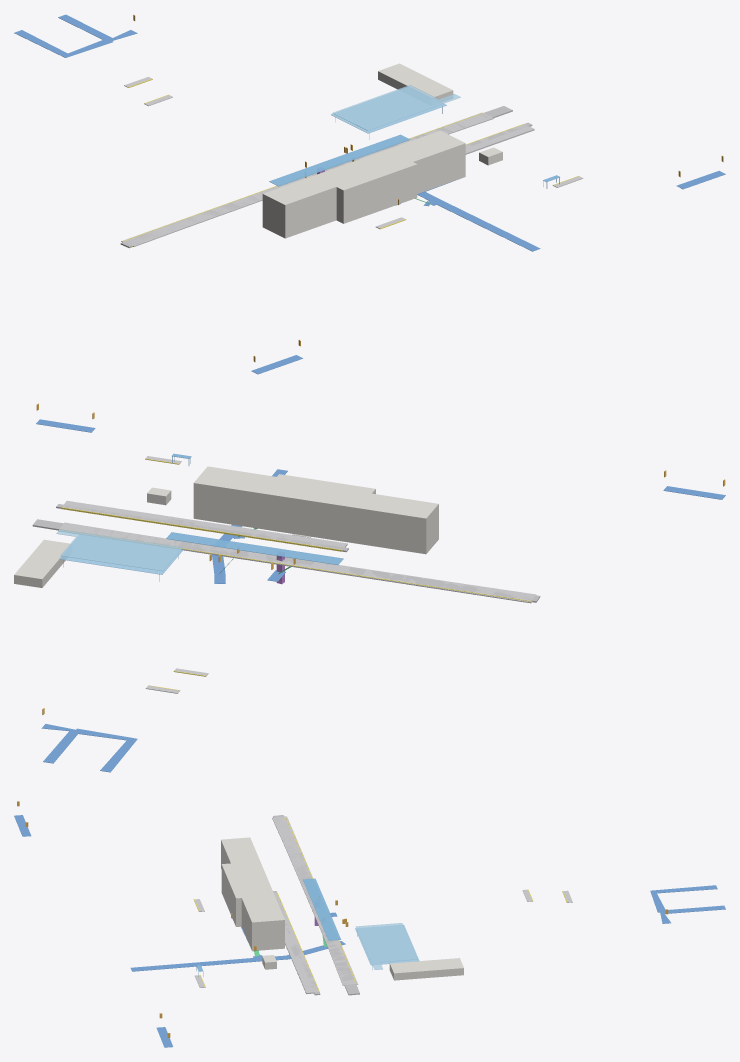
The model's file is 8504489-bern-buempliz-nord.glb.
The picture shows the model from 3 angles, top to bottom: view 1: azimuth 30°, elevation 25°; view 2: azimuth 150°, elevation 25°; view 3: azimuth 270°, elevation 25°; orthographic projection. The views are drawn at different scales.
Parts seen in each view (by area): view 1: building_part@x, platform_body@0, roof@0, canopy@0, passage@-1, platform_surface@0, shelter@0, passage@-2; view 2: building_part@x, platform_body@0, platform_surface@0, roof@0, canopy@0, passage@-1, shelter@0, boarding_edge@0; view 3: building_part@x, platform_body@0, canopy@0, roof@0, platform_surface@0, passage@-1, shelter@0, passage@-2.
Part boxes in pixels (bbox=[...]): building_part@x: bbox=[262, 63, 502, 238]; platform_body@0: bbox=[121, 77, 583, 246]; roof@0: bbox=[332, 85, 460, 130]; canopy@0: bbox=[331, 87, 446, 139]; passage@-1: bbox=[14, 14, 725, 374]; platform_surface@0: bbox=[120, 106, 532, 248]; shelter@0: bbox=[269, 134, 559, 188]; passage@-2: bbox=[417, 192, 540, 251]; building_part@x: bbox=[14, 466, 438, 587]; platform_body@0: bbox=[58, 456, 536, 693]; platform_surface@0: bbox=[32, 504, 540, 602]; roof@0: bbox=[56, 529, 182, 571]; canopy@0: bbox=[59, 535, 182, 581]; passage@-1: bbox=[36, 419, 725, 772]; shelter@0: bbox=[166, 453, 343, 564]; boarding_edge@0: bbox=[59, 458, 530, 690]; building_part@x: bbox=[221, 837, 463, 980]; platform_body@0: bbox=[194, 816, 572, 994]; canopy@0: bbox=[355, 924, 419, 970]; roof@0: bbox=[355, 923, 417, 969]; platform_surface@0: bbox=[273, 815, 359, 995]; passage@-1: bbox=[14, 815, 725, 1047]; shelter@0: bbox=[196, 878, 340, 976]; passage@-2: bbox=[130, 941, 345, 971].
Bounding box in the file's own units: 244 × 23.12 × 315.
